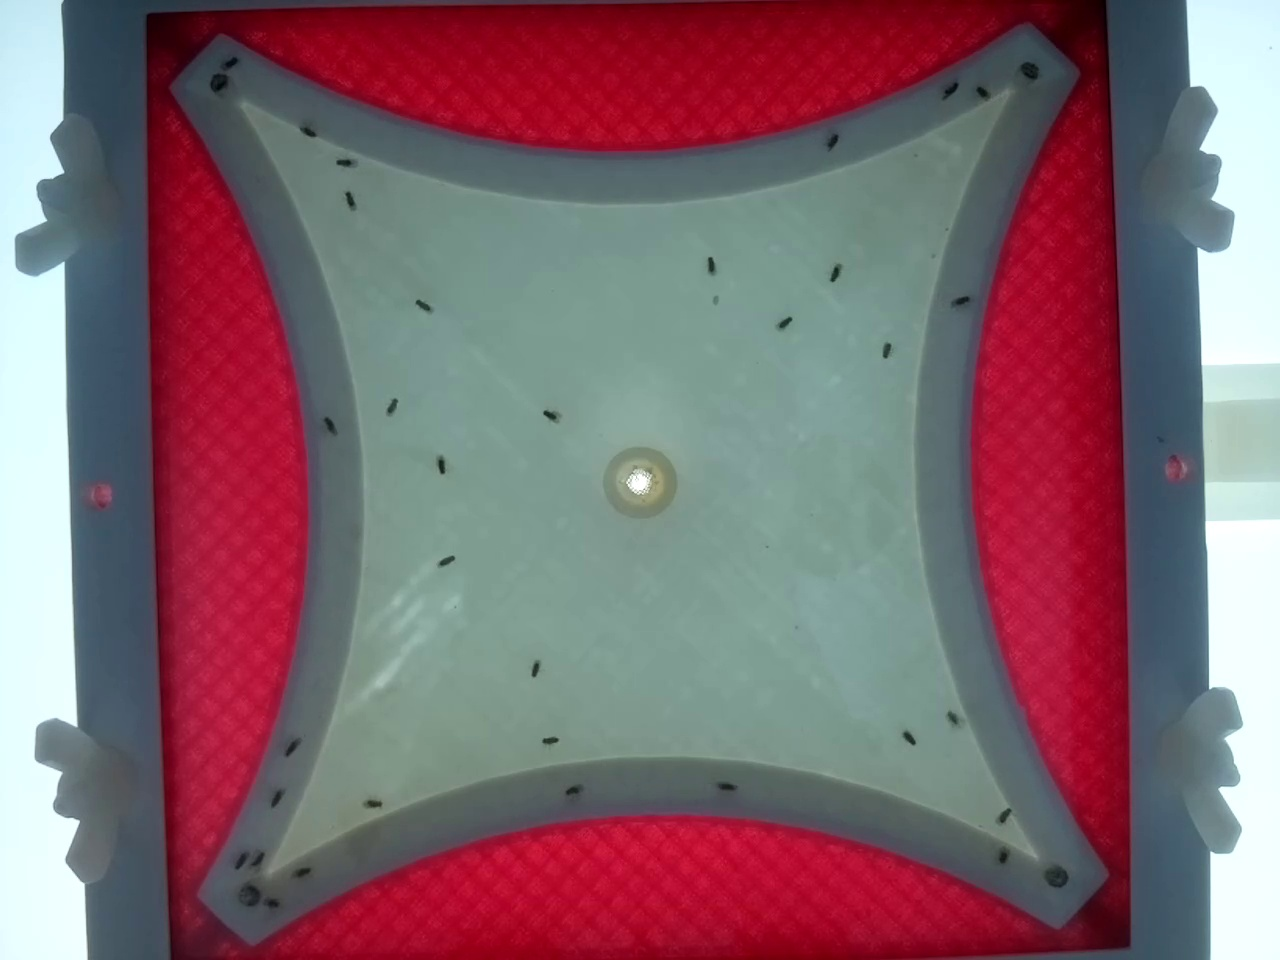fly: (337, 186, 362, 211), (295, 119, 321, 144), (967, 76, 992, 101), (329, 150, 354, 175), (771, 310, 796, 335), (874, 336, 899, 361), (379, 394, 404, 419), (896, 724, 921, 749), (536, 728, 561, 753), (278, 739, 303, 764), (261, 791, 286, 816), (360, 790, 385, 815), (228, 848, 253, 873), (246, 846, 271, 871), (989, 845, 1014, 870), (991, 803, 1016, 828), (290, 859, 315, 884), (218, 50, 243, 75), (938, 77, 963, 102), (1052, 38, 1077, 63), (820, 128, 845, 153), (822, 259, 847, 284), (410, 293, 435, 318), (698, 252, 723, 277), (428, 452, 453, 477), (537, 403, 562, 428), (940, 703, 965, 728), (522, 655, 547, 680), (433, 548, 458, 573), (721, 775, 746, 800), (261, 892, 286, 917), (238, 876, 263, 901), (948, 288, 973, 313), (315, 408, 340, 433), (561, 777, 586, 802)
